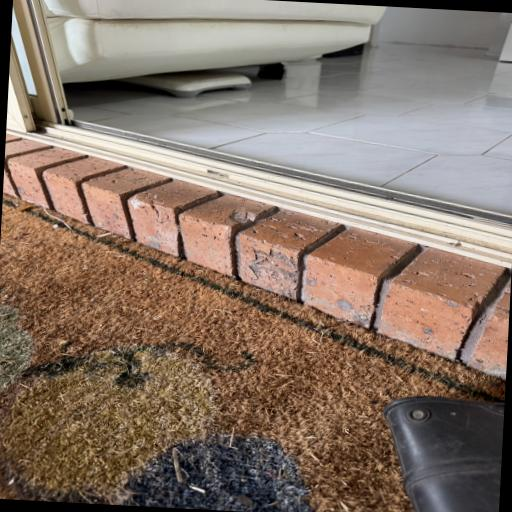step: (3, 121, 512, 378)
